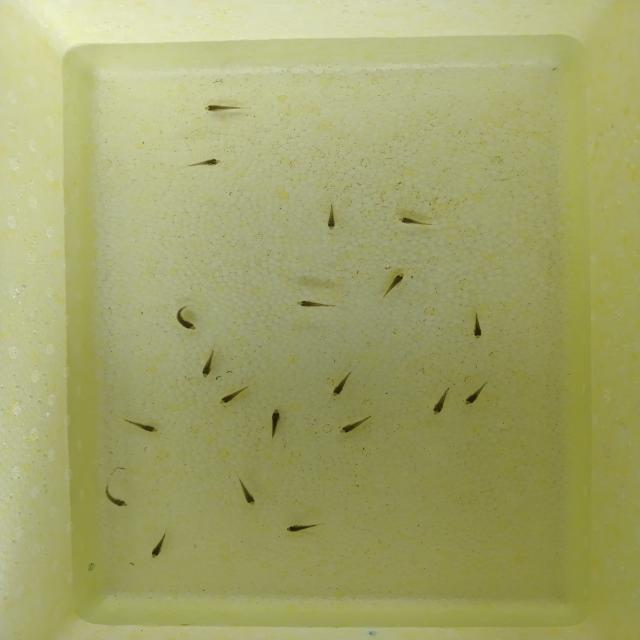fingerling: (278, 518, 320, 538), (194, 352, 220, 380), (128, 417, 164, 437), (145, 535, 171, 561), (99, 489, 132, 509), (168, 312, 200, 332), (428, 389, 447, 422), (214, 388, 248, 406), (462, 385, 491, 405), (334, 417, 370, 433), (319, 207, 342, 232), (469, 310, 487, 340), (330, 372, 350, 398), (193, 155, 225, 171), (294, 297, 330, 311), (388, 270, 408, 294), (199, 104, 241, 115), (242, 482, 258, 510), (268, 406, 286, 428), (396, 214, 424, 228)
